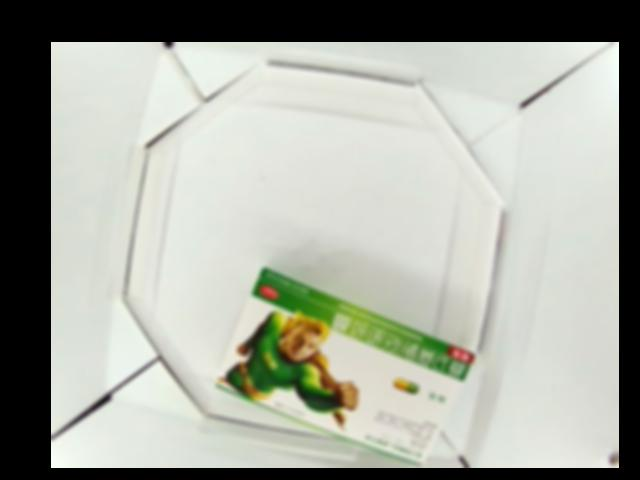Medicine: (213, 265, 479, 465)
